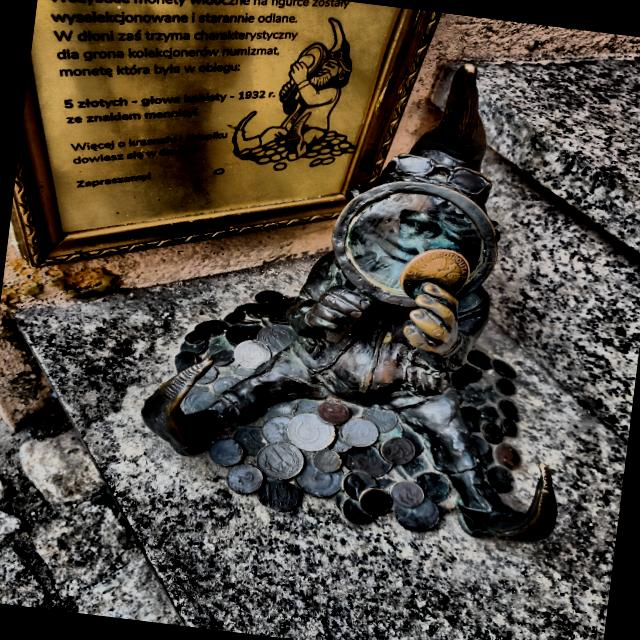Numizmatyk: (141, 63, 557, 541)
